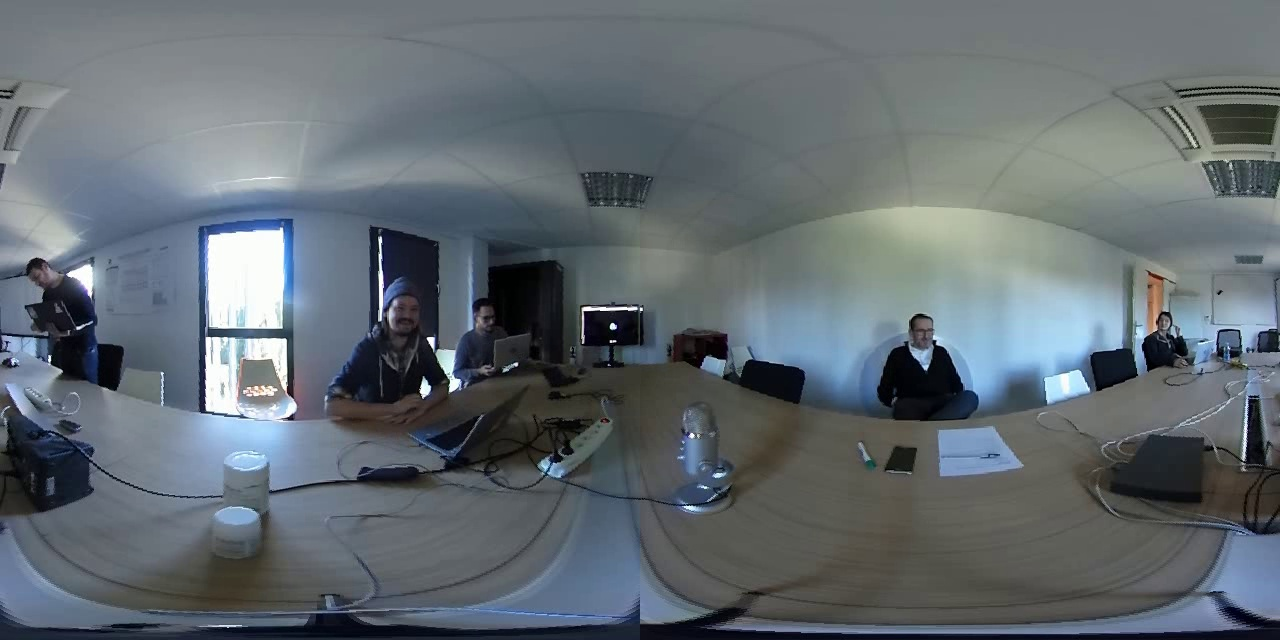person: (331, 265, 447, 397), (864, 306, 973, 413), (14, 250, 104, 367), (455, 288, 510, 365), (1135, 304, 1186, 367)
